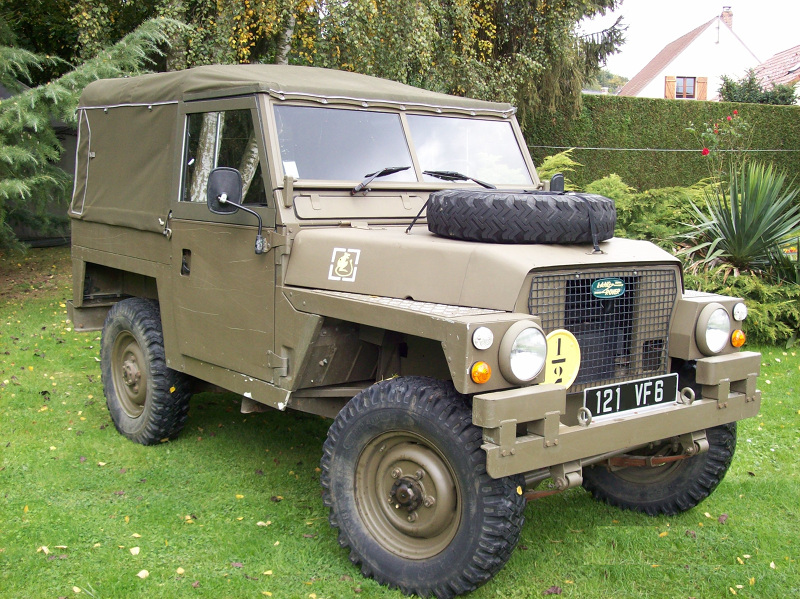license_plate: (586, 375, 682, 415)
